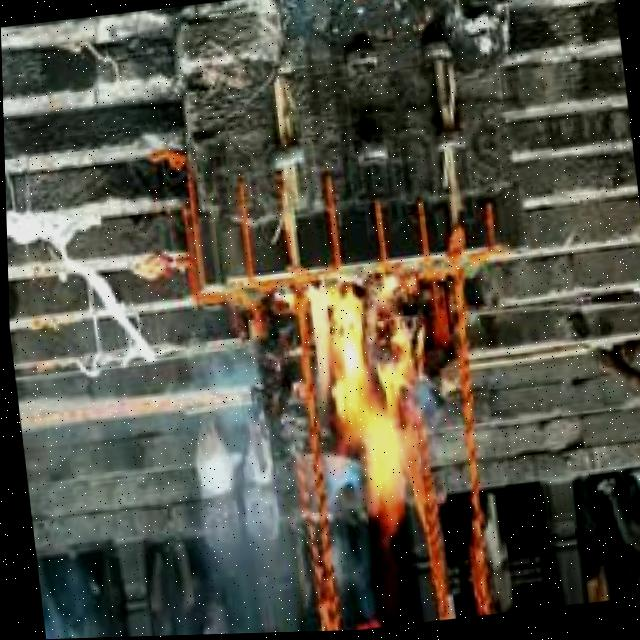Fire: (291, 271, 425, 536)
